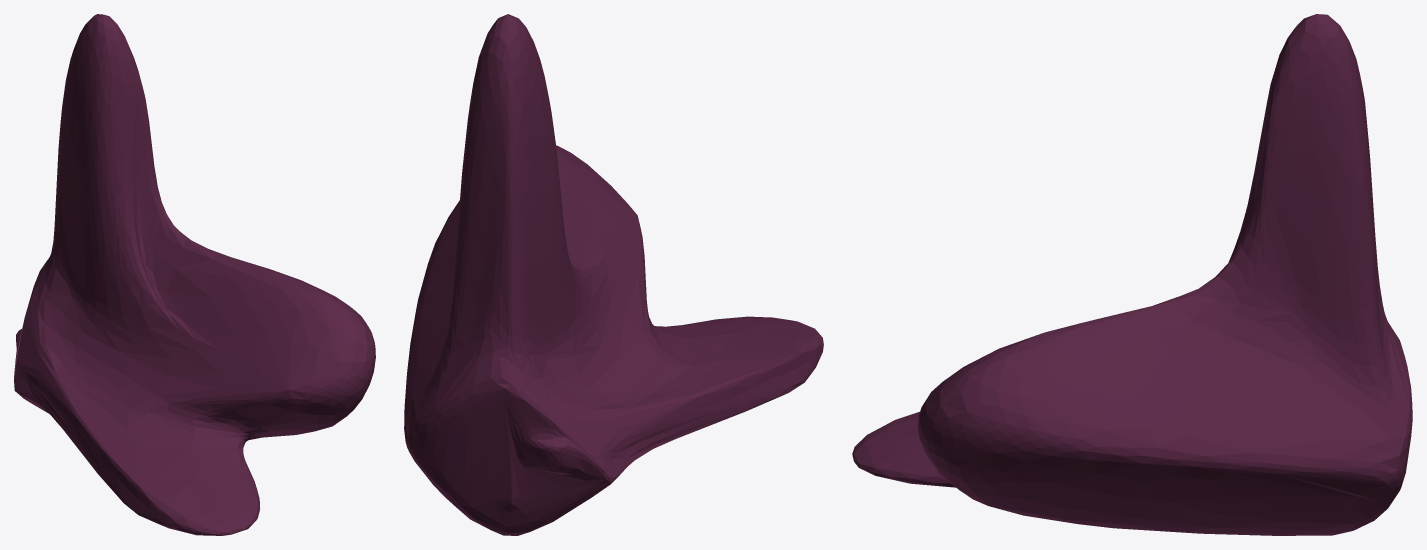
3 views of the same model, side by side, from view 1: azimuth 30°, elevation 25°; view 2: azimuth 150°, elevation 25°; view 3: azimuth 270°, elevation 25° (orthographic). The views are drawn at different scales.
Parts seen in each view (by area): view 1: 779_Cube.3139; view 2: 779_Cube.3139; view 3: 779_Cube.3139.
Part boxes in pixels (x1,y1,x2,y2): 779_Cube.3139: (14, 14, 375, 535); 779_Cube.3139: (404, 14, 823, 535); 779_Cube.3139: (852, 14, 1412, 535).
Bounding box in the file's own units: 8.19 × 13.08 × 12.64.
